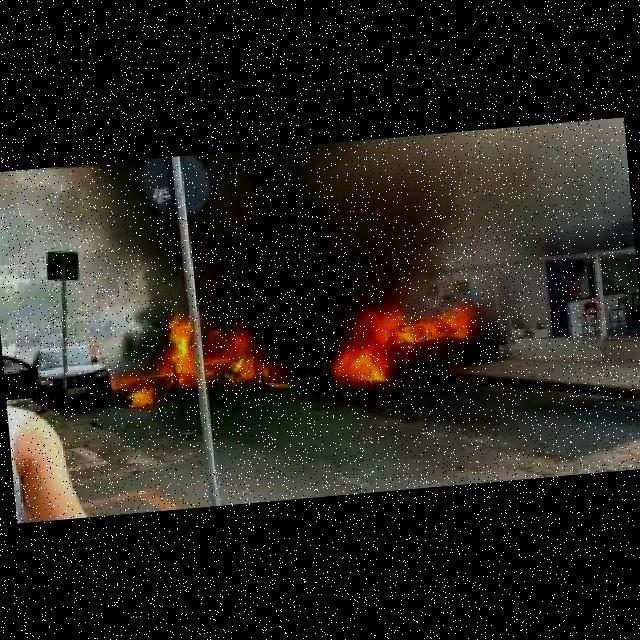Fire: (329, 299, 471, 385), (163, 314, 193, 388), (223, 352, 265, 383), (125, 387, 157, 410), (267, 379, 294, 389)
Smoke: (56, 129, 528, 346)
